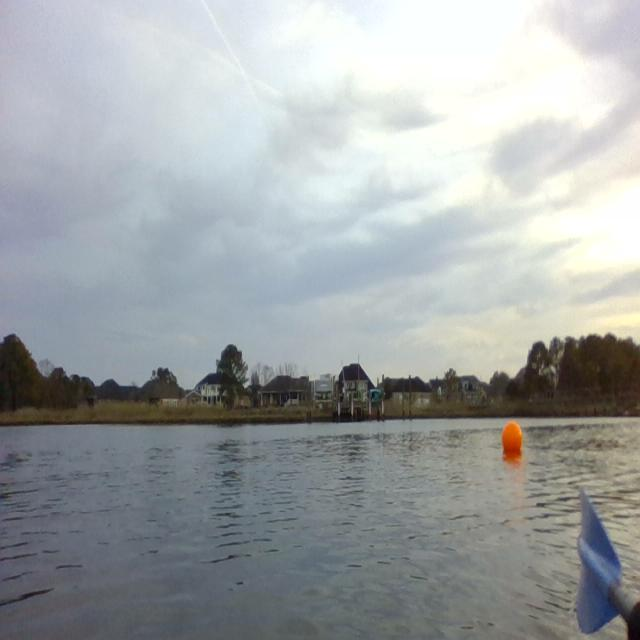Buoy: (500, 417, 524, 459)
